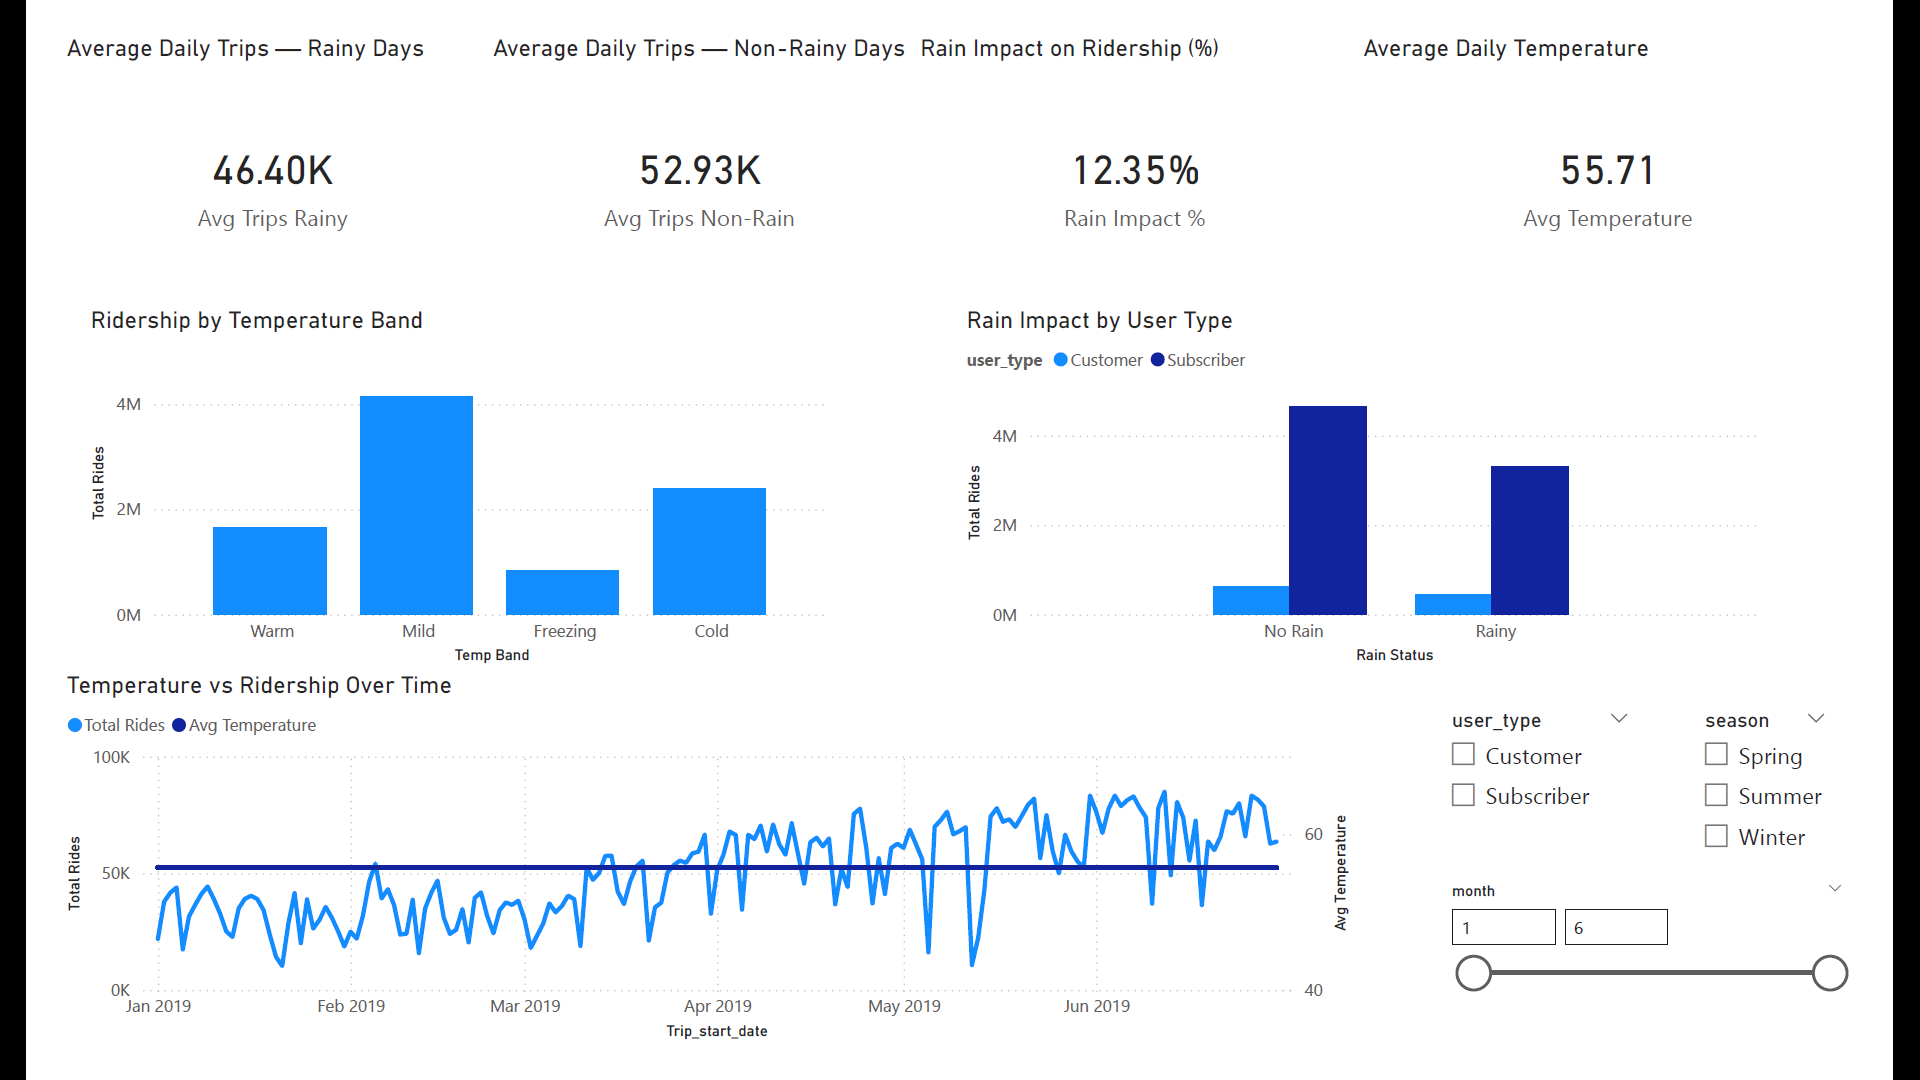

The dashboard page shown, as its layout file describes it:
{"tool":"powerbi","page":{"name":"Weather Impact","canvas":[1280,720],"ordinal":3},"visuals":[{"type":"card","title":"Average Daily Trips — Rainy Days","fields":{"Values":["nyc_weather_staging.Avg Trips Rainy"]},"box":[0,0,303.3,193.3],"z":0},{"type":"card","title":"Average Daily Trips — Non-Rainy Days","fields":{"Values":["nyc_weather_staging.Avg Trips Non-Rain"]},"box":[303.3,0,303.3,193.3],"z":1000},{"type":"card","title":"Rain Impact on Ridership (%)","fields":{"Values":["nyc_weather_staging.Rain Impact %"]},"box":[606.7,0,315,193.3],"z":2000},{"type":"card","title":"Average Daily Temperature","fields":{"Values":["citibike_staging.Avg Temperature"]},"box":[921.7,0,358.3,193.3],"z":3000},{"type":"clusteredColumnChart","title":"Ridership by Temperature Band","fields":{"Category":["nyc_weather_staging.Temp Band"],"Y":["citibike_staging.Total Rides"]},"box":[16.7,193.3,535,260],"z":4000},{"type":"clusteredColumnChart","title":"Rain Impact by User Type","fields":{"Category":["nyc_weather_staging.Rain Status"],"Y":["citibike_staging.Total Rides"],"Series":["citibike_staging.user_type"]},"box":[640,193.3,573.3,260],"z":5000},{"type":"lineChart","title":"Temperature vs Ridership Over Time","fields":{"Category":["citibike_staging.Trip_start_date"],"Y":["citibike_staging.Total Rides"],"Y2":["citibike_staging.Avg Temperature"]},"box":[0,453.3,921.7,266.7],"z":6000},{"type":"slicer","fields":{"Values":["citibike_staging.month"]},"box":[976.7,598.3,303.3,121.7],"z":7000},{"type":"slicer","fields":{"Values":["citibike_staging.user_type"]},"box":[976.7,475,151.7,123.3],"z":8000},{"type":"slicer","fields":{"Values":["citibike_staging.season"]},"box":[1156.7,475,111.7,123.3],"z":9000}]}

Visuals, with their boxes in screenshot pixels (x1, y1, x2, y2), scaled from the page's 1280x720 canvas onto the 1920x1080 screenshot:
"Average Daily Trips — Rainy Days" card: [left=0, top=0, right=455, bottom=290]
"Average Daily Trips — Non-Rainy Days" card: [left=455, top=0, right=910, bottom=290]
"Rain Impact on Ridership (%)" card: [left=910, top=0, right=1383, bottom=290]
"Average Daily Temperature" card: [left=1383, top=0, right=1919, bottom=290]
"Ridership by Temperature Band" clusteredColumnChart: [left=25, top=290, right=828, bottom=680]
"Rain Impact by User Type" clusteredColumnChart: [left=960, top=290, right=1820, bottom=680]
"Temperature vs Ridership Over Time" lineChart: [left=0, top=680, right=1383, bottom=1079]
slicer - citibike_staging.month: [left=1465, top=897, right=1919, bottom=1079]
slicer - citibike_staging.user_type: [left=1465, top=712, right=1693, bottom=897]
slicer - citibike_staging.season: [left=1735, top=712, right=1903, bottom=897]
